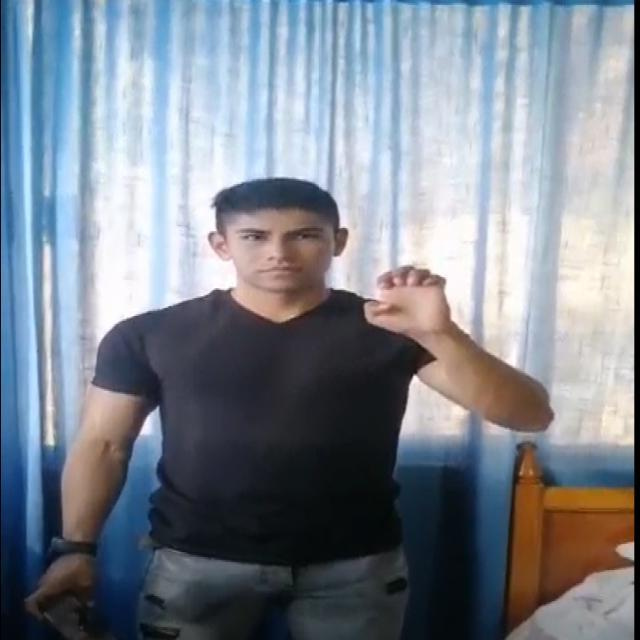E: (356, 252, 462, 366)
